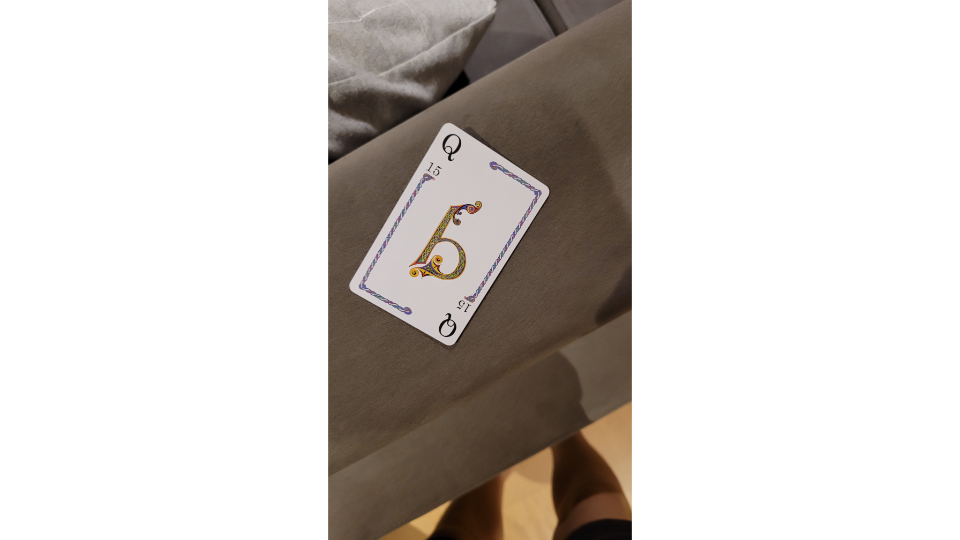Q: (346, 122, 553, 349)
